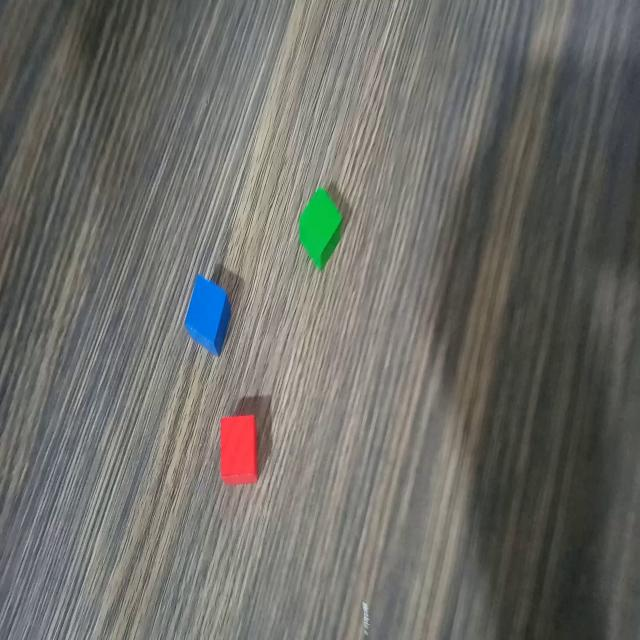cube: (182, 268, 234, 358), (296, 184, 346, 272), (218, 410, 262, 492)
